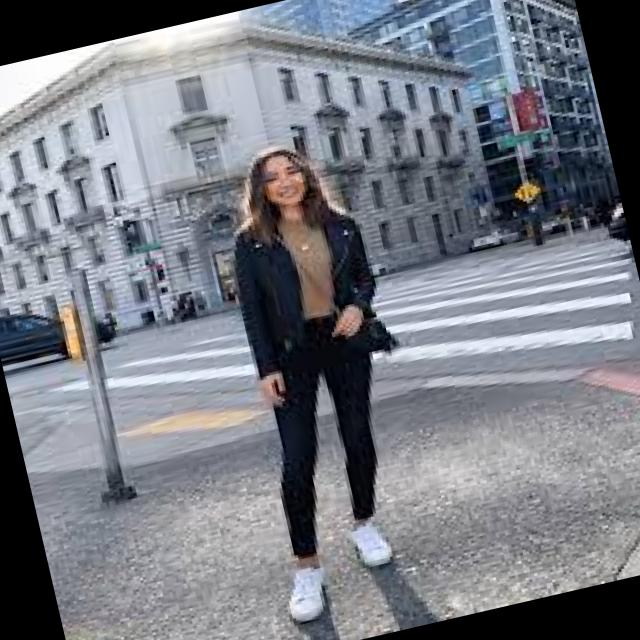Jacket: (201, 188, 405, 394)
